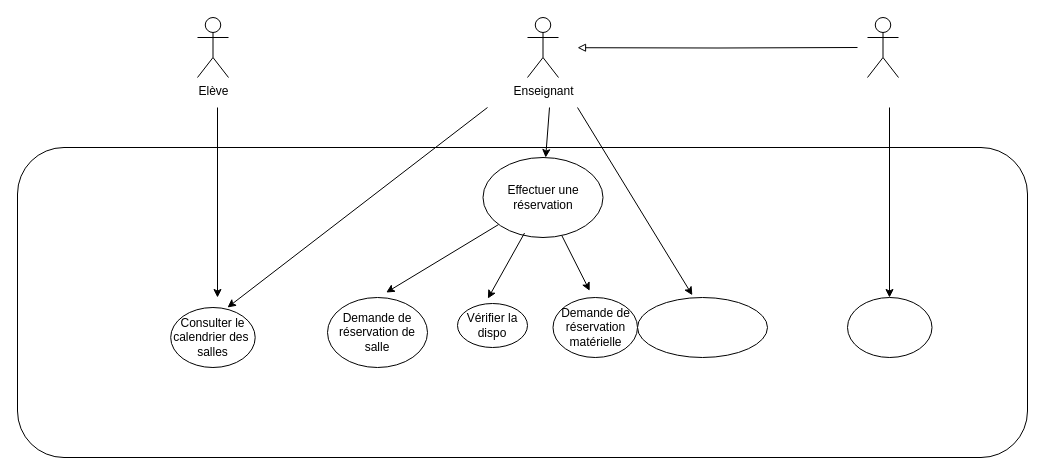
The diagram is 1045 pixels wide and 475 high, and some of its shapes have lost their labels. The centre of each missing label's shape, as x and y in pixels:
"Enseignant référent" goes at point (882, 47).
"Modifier le récap des heures" goes at point (889, 327).
"Récapitulatif des heures d'enseignement" goes at point (702, 327).
